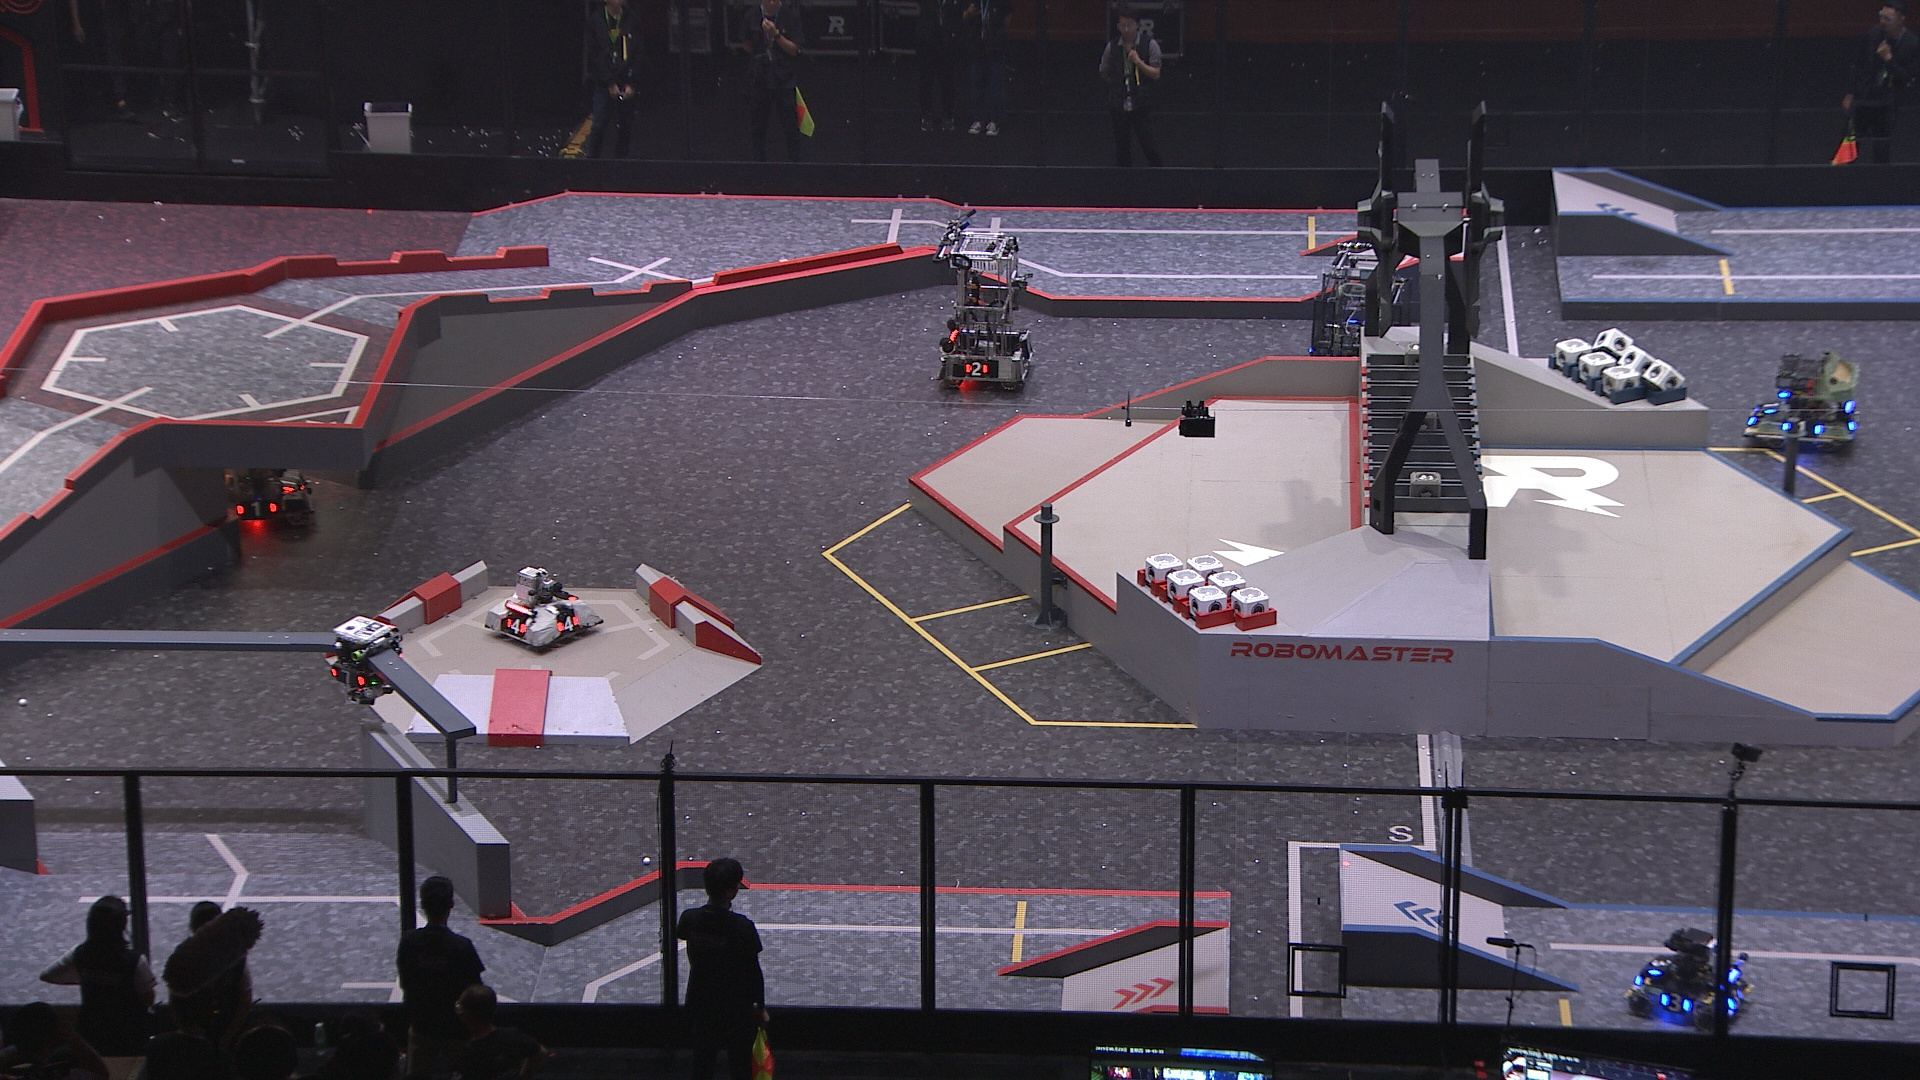armor: (233, 498, 282, 524), (1656, 986, 1695, 1015), (328, 662, 367, 690), (1779, 418, 1822, 440), (276, 467, 305, 495), (1724, 982, 1747, 1011), (553, 613, 582, 636), (960, 357, 992, 377), (1644, 956, 1673, 977), (502, 615, 529, 636), (1756, 398, 1779, 417)
car: (935, 229, 1039, 396), (183, 406, 320, 531), (1629, 918, 1756, 1033), (1741, 344, 1865, 455), (1305, 243, 1414, 368), (480, 560, 605, 657)
watcher: (323, 612, 406, 707)
